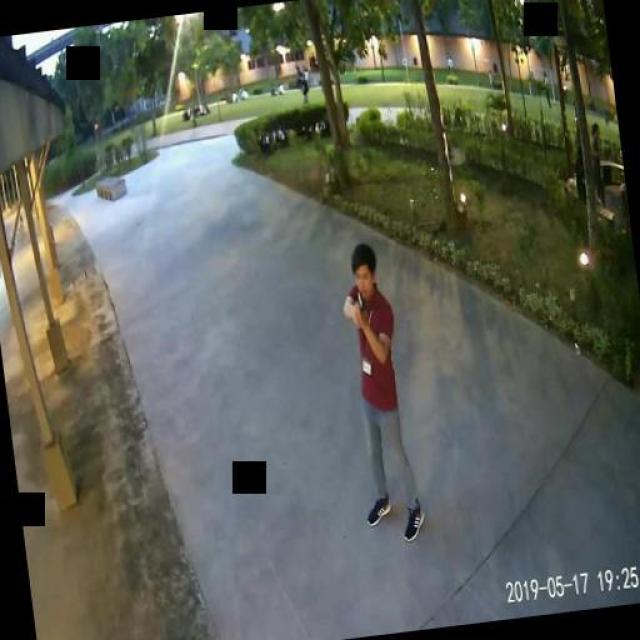gun: (352, 288, 366, 326)
